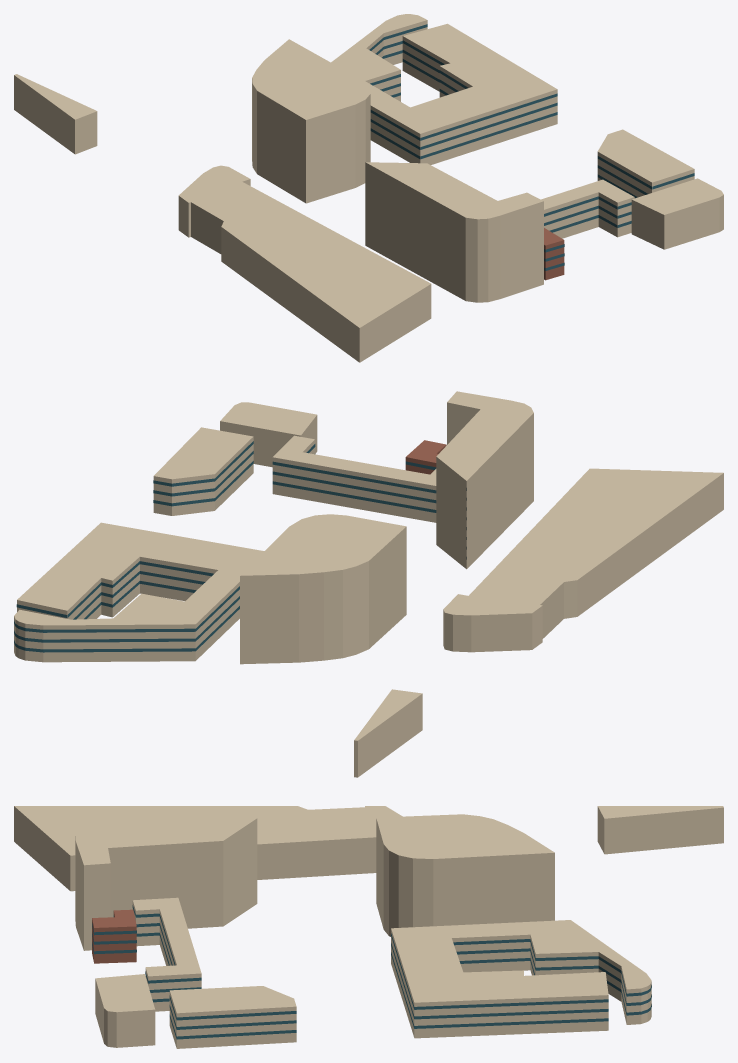
File: city_-4_5.glb
3 renders of one model, top to bottom at view 1: azimuth 30°, elevation 25°; view 2: azimuth 150°, elevation 25°; view 3: azimuth 270°, elevation 25°, orthographic. The views are drawn at different scales.
Visible parts, largest first — view 1: city_-4_5; view 2: city_-4_5; view 3: city_-4_5.
Boxes of the visible parts, box(x1,y1,x2,y2) form: city_-4_5: box(14, 14, 723, 362); city_-4_5: box(14, 391, 723, 777); city_-4_5: box(14, 806, 723, 1048).
Size of the model in its own units: 187 by 36 by 271.
